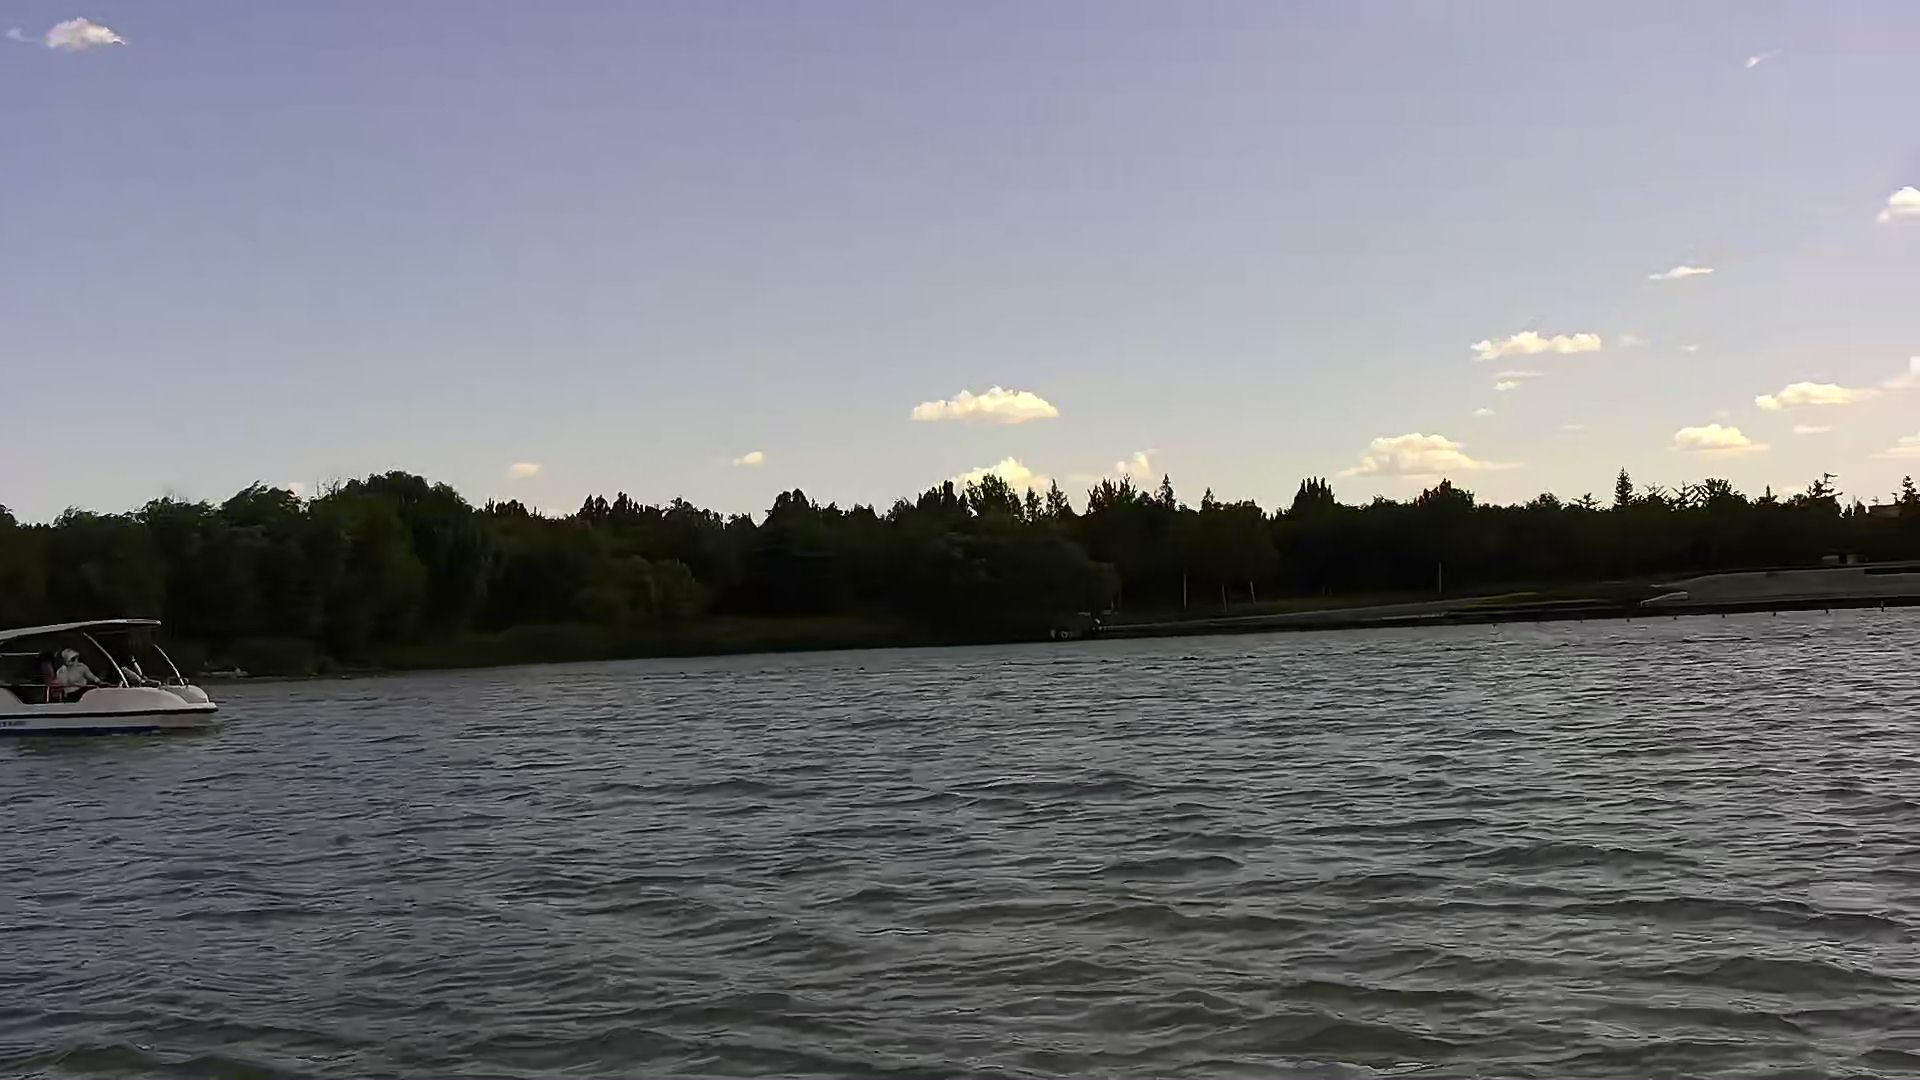boat: (1, 615, 229, 737)
